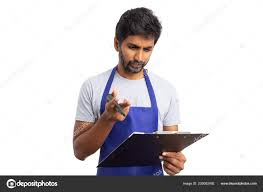Indian_Male: (105, 20, 169, 87)
